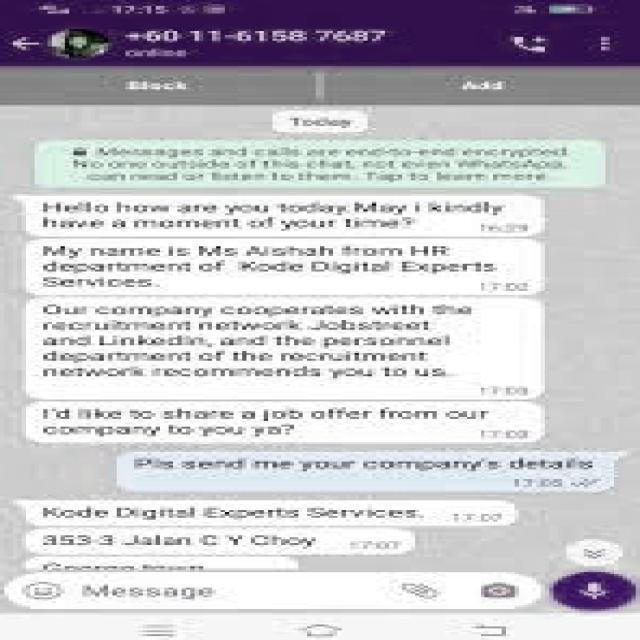scam: (31, 296, 522, 394), (20, 237, 545, 297), (23, 189, 552, 241), (36, 406, 544, 444), (17, 499, 462, 526), (25, 526, 382, 554)
